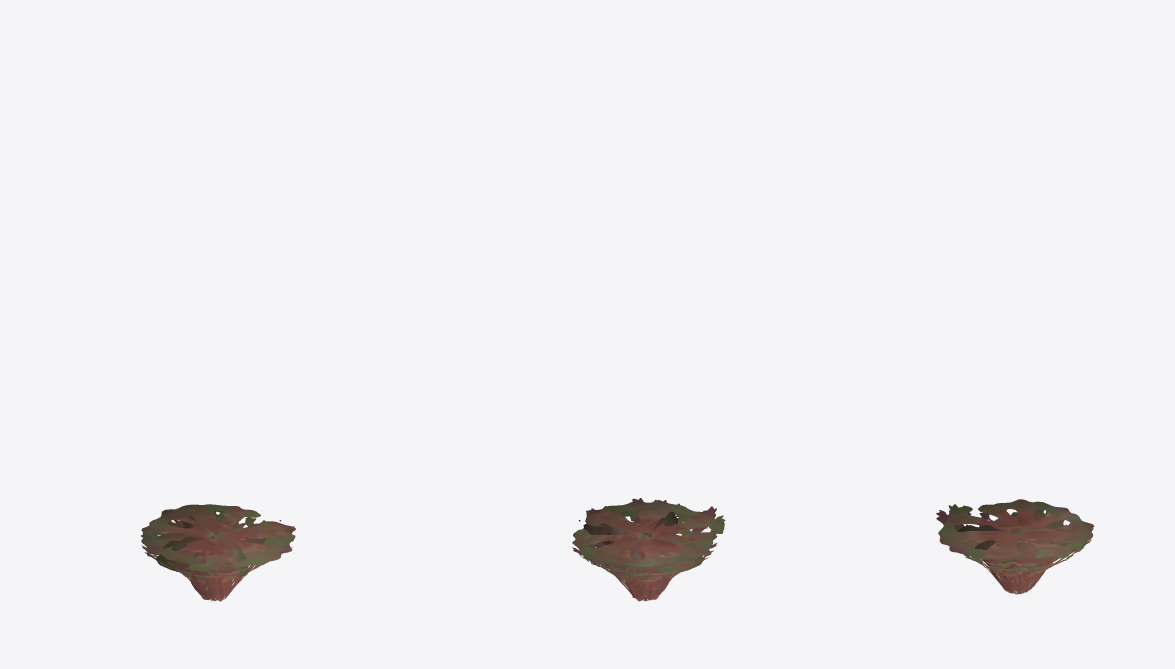
Rendered from plant-bramble.glb.
3 views of the same model, side by side, from view 1: azimuth 30°, elevation 25°; view 2: azimuth 150°, elevation 25°; view 3: azimuth 270°, elevation 25° (orthographic). The views are drawn at different scales.
Parts seen in each view (by area): view 1: impostor-0, lod0-leaves-0, impostor-1, lod0-leaves-1; view 2: impostor-0, lod0-leaves-0, impostor-1; view 3: impostor-0, lod0-leaves-0, impostor-1, lod0-leaves-1.
Boxes of the visible parts, x1,y1,x2,y2 form: impostor-0: (141, 504, 295, 601); lod0-leaves-0: (141, 512, 295, 601); impostor-1: (147, 518, 257, 597); lod0-leaves-1: (158, 512, 274, 600); impostor-0: (572, 501, 724, 601); lod0-leaves-0: (572, 498, 725, 601); impostor-1: (584, 515, 695, 598); impostor-0: (936, 499, 1094, 590); lod0-leaves-0: (936, 504, 1093, 594); impostor-1: (975, 514, 1078, 588); lod0-leaves-1: (978, 509, 1062, 593).
Size of what is drawn, in the model's own units: 3.84 by 7.68 by 3.84.
4 materials, 3 textured.
